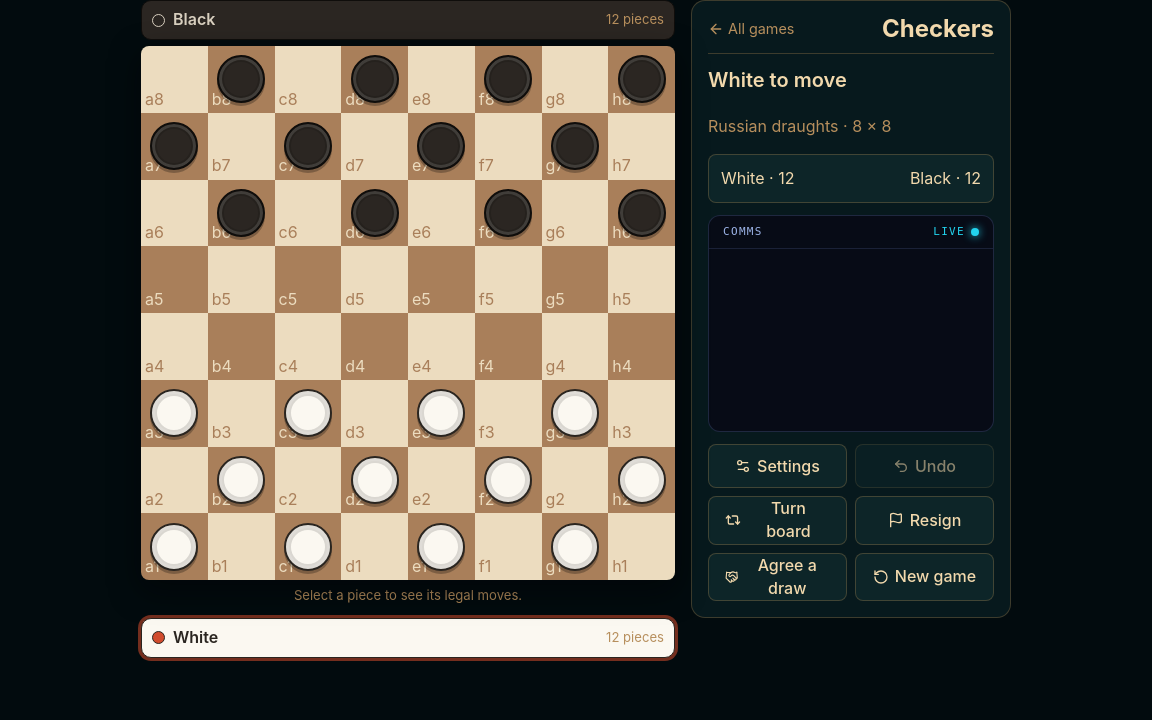
Test: Checkers › shows the chess board styles in settings
Click the button "Settings" at {"x": 778, "y": 466}, box [708,444,847,488]
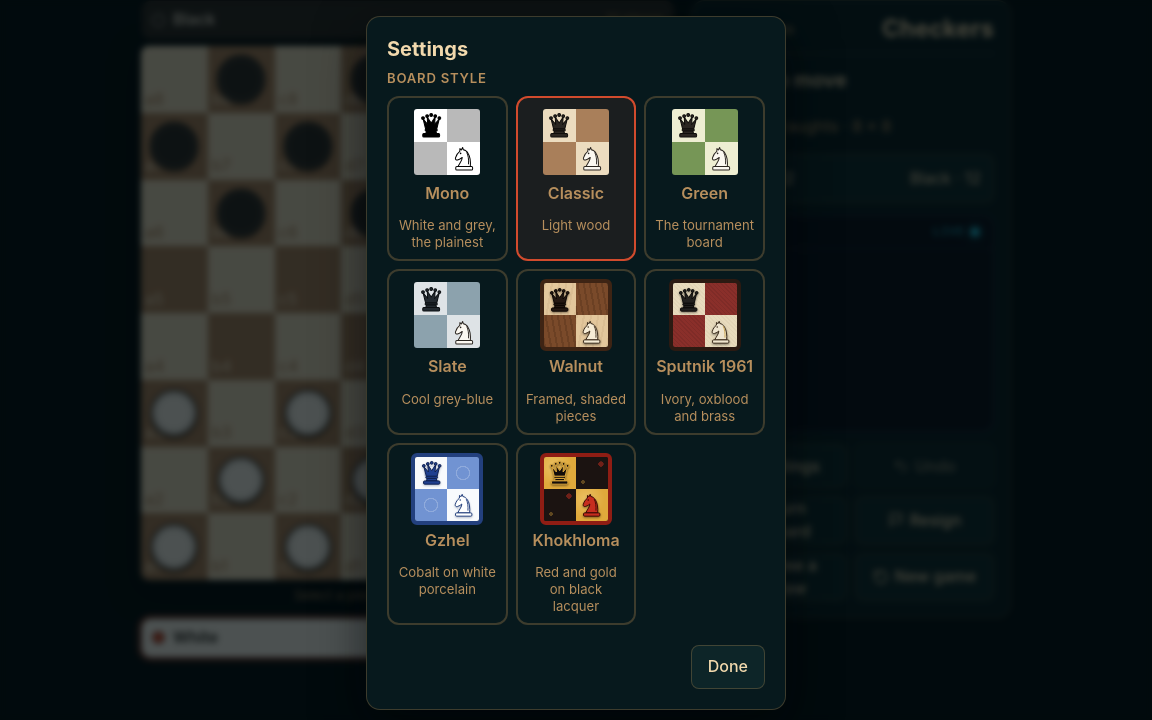
Expected: the element that starts with "Mono" is shown, [387,96,765,625]
Expected: the radio button labelled "Walnut Framed, shaded pieces" is shown, [516,269,636,435]
